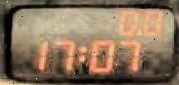-: (133, 27, 142, 36)
0: (87, 38, 113, 71), (114, 9, 135, 35), (142, 9, 160, 34)
1: (32, 39, 47, 70)
7: (52, 37, 75, 71), (115, 39, 140, 70)
X: (75, 43, 87, 63)
